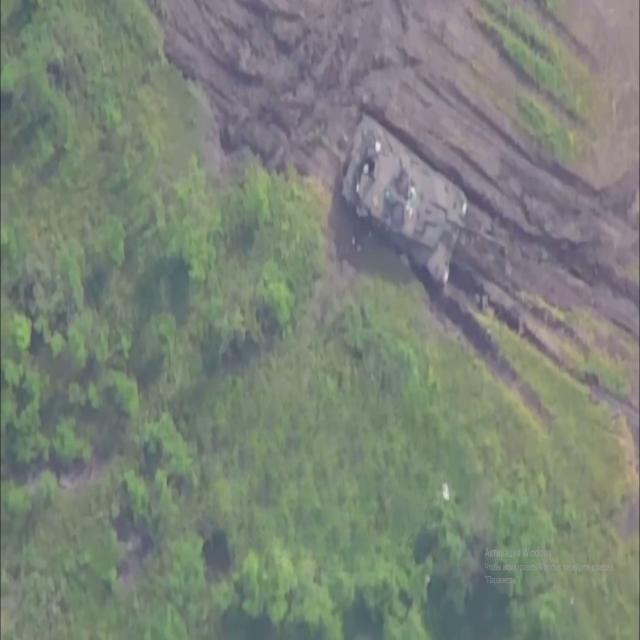MBT: (340, 111, 507, 290)
